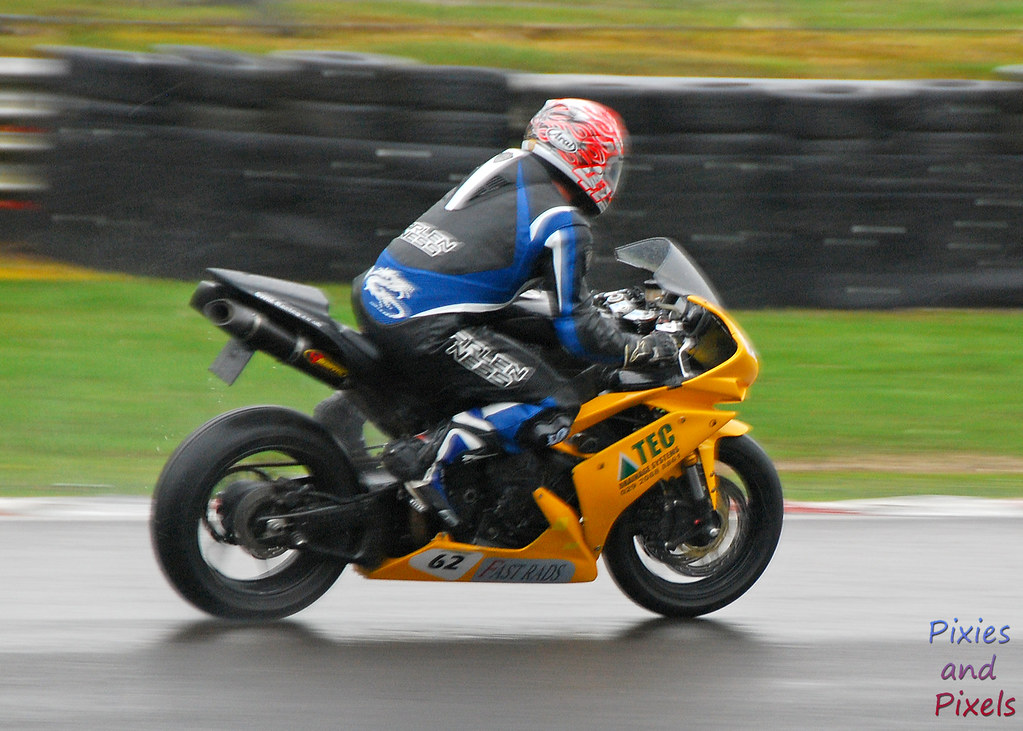helmet: (528, 92, 635, 222)
